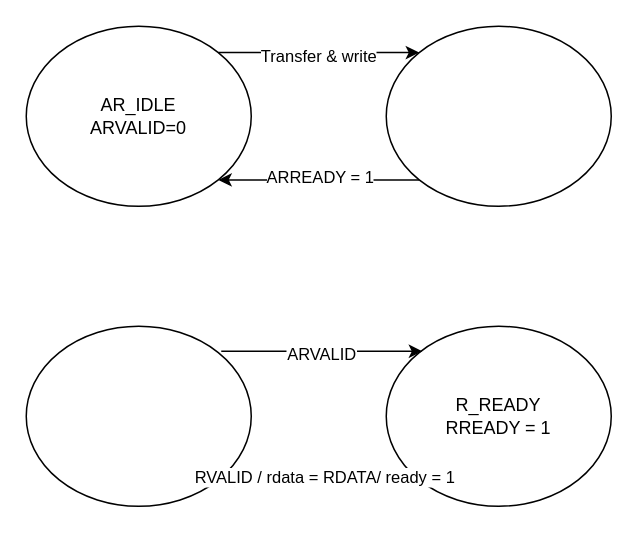
The diagram is 638 pixels wide and 533 high, and some of its shapes have lost their labels. Here are the shapes that lost their labels. From the top down, the box of each, then its label:
(385, 25, 611, 206): AR_VALID ARADDR=addr ARVALID=1
(25, 325, 251, 506): R_IDLE WVALID = 0
